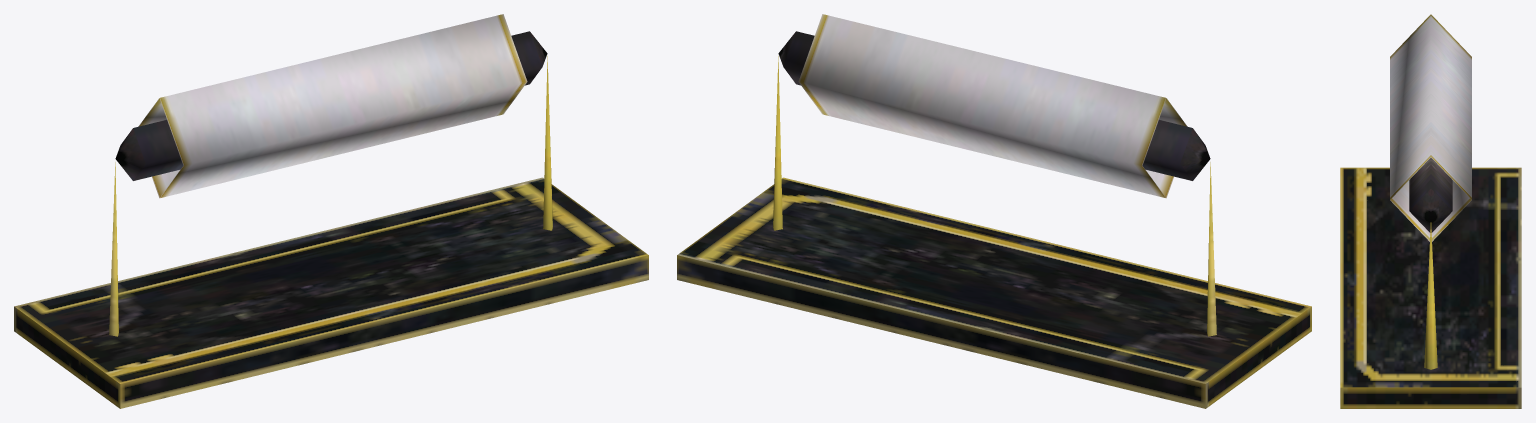
The model's file is frn_all_lamp_desk_s1_l1.fbx.
The picture shows the model from 3 angles, left to right: view 1: azimuth 30°, elevation 25°; view 2: azimuth 150°, elevation 25°; view 3: azimuth 270°, elevation 25°; orthographic projection. The views are drawn at different scales.
Parts seen in each view (by area): view 1: mesh_node; view 2: mesh_node; view 3: mesh_node.
Part boxes in pixels (left/top/right/bottom): mesh_node: left=14, top=14, right=648, bottom=408; mesh_node: left=677, top=14, right=1311, bottom=408; mesh_node: left=1340, top=14, right=1521, bottom=408.
Size of the model in its own units: 0.3577 by 0.1615 by 0.1244.
